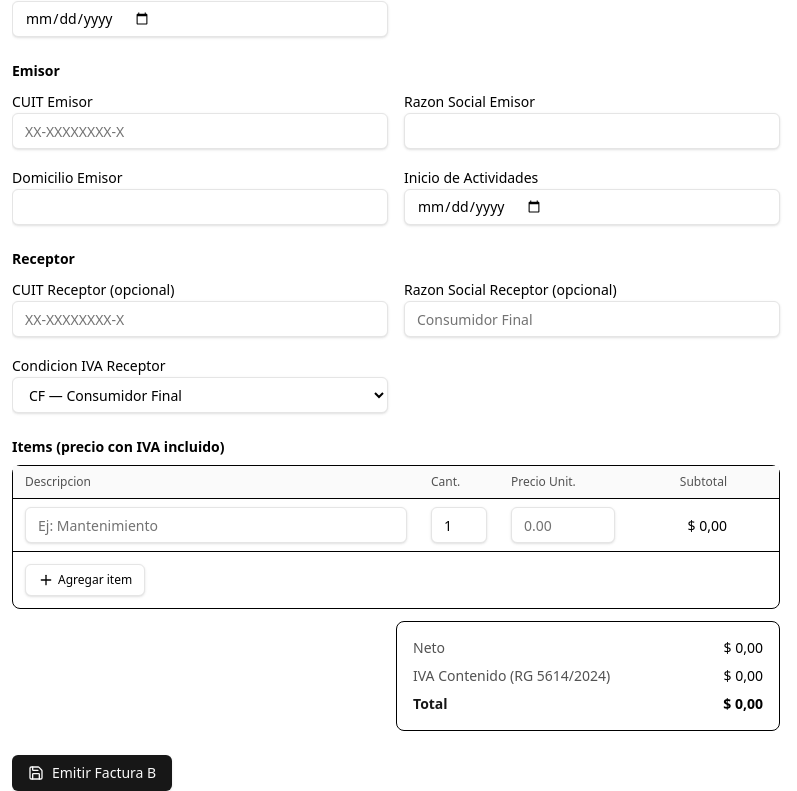
Test: FacturaBForm › [@validation] validates CUIT format when filled
(page scrolled)
Type "Limpieza general" into the field named "Descripcion item 1" at {"x": 216, "y": 525}, box [25,507,407,543]
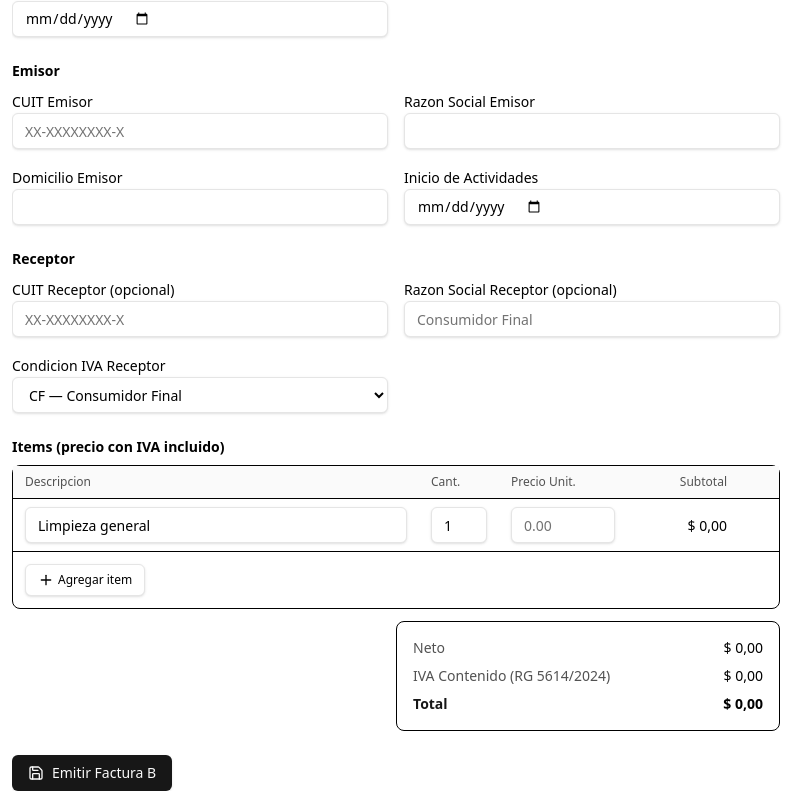
Type "5000" into the number field named "Precio unitario item 1" at {"x": 563, "y": 525}, box [511,507,615,543]
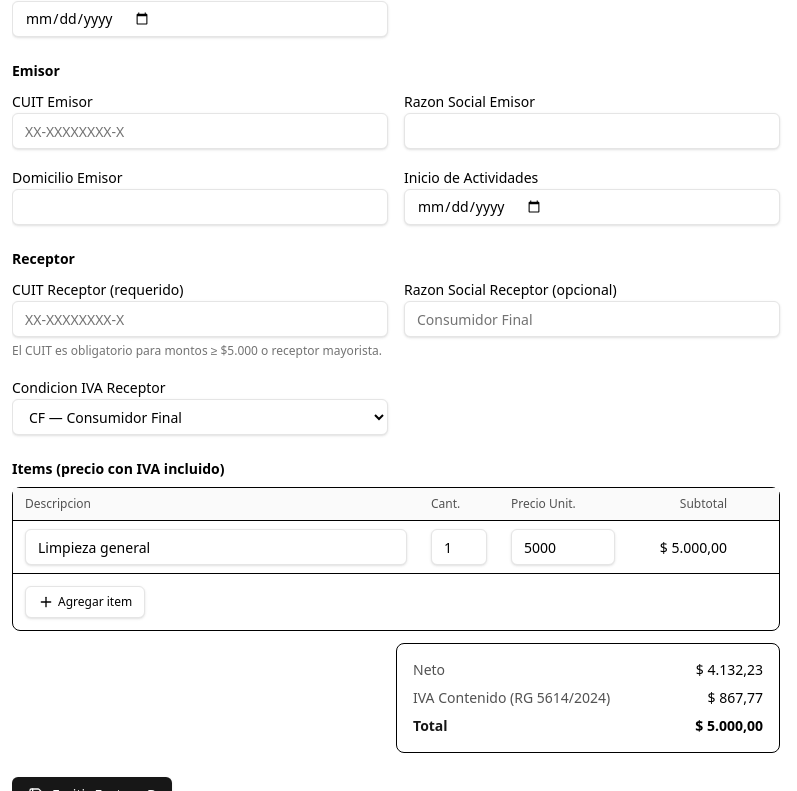
Type "12345678901" into the field labelled "CUIT Receptor (requerido)" at {"x": 200, "y": 319}, box [12,301,388,337]
(page scrolled)
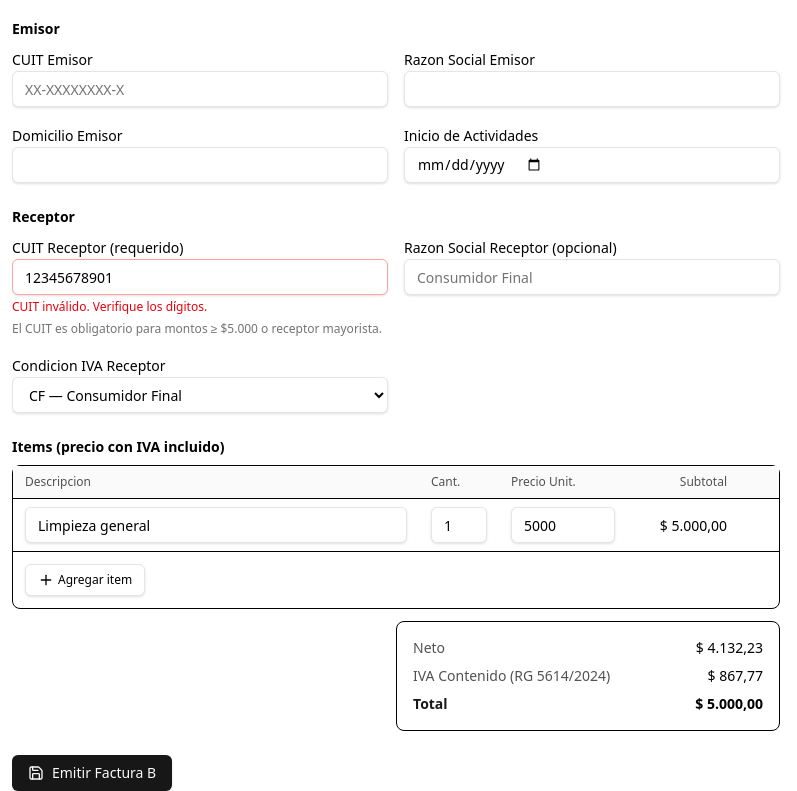
Click the button "Emitir Factura B" at {"x": 92, "y": 773}, box [12,755,172,790]
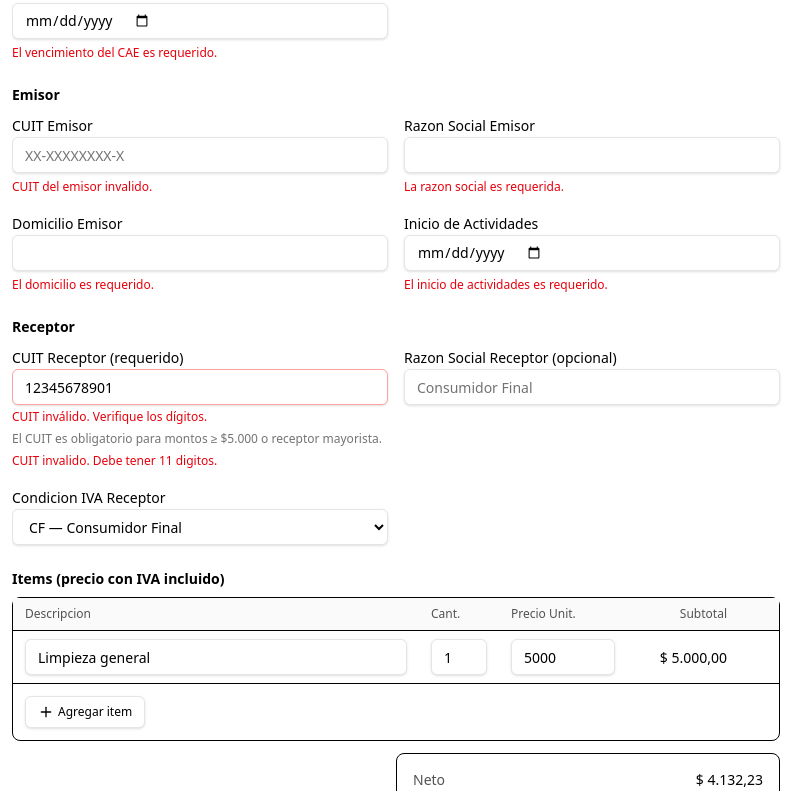
Now the text "CUIT invalido. Debe tener 11 digitos." is shown, box [12,452,217,469]
